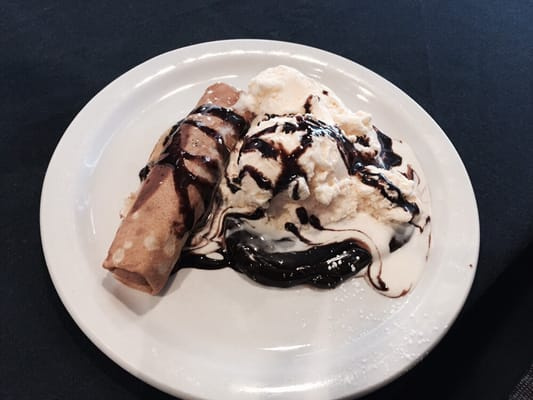curry: (0, 0, 512, 399)
salad: (100, 63, 433, 300)
